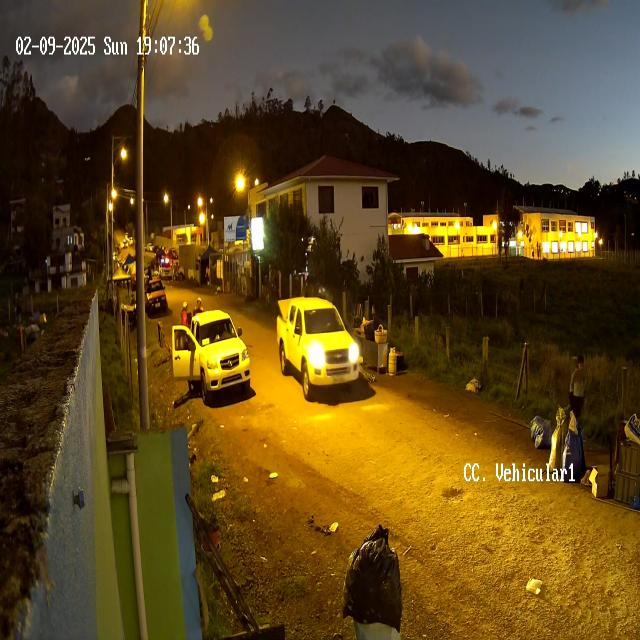CMT: (276, 296, 360, 401)
